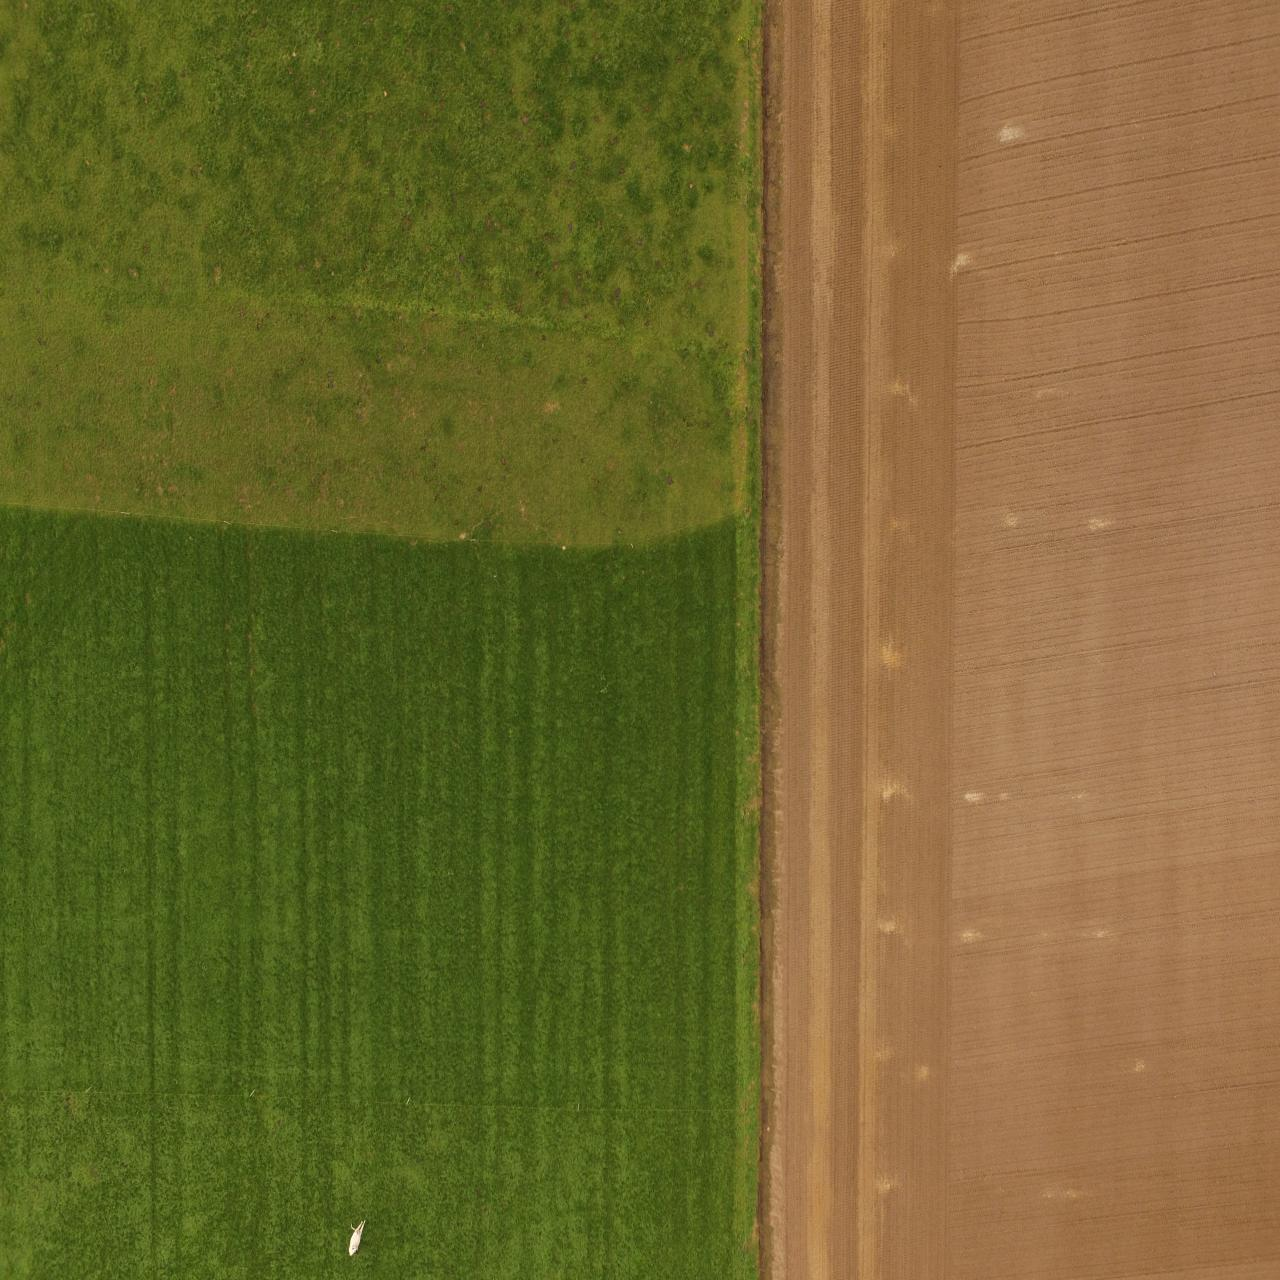cow: (345, 1216, 365, 1258)
